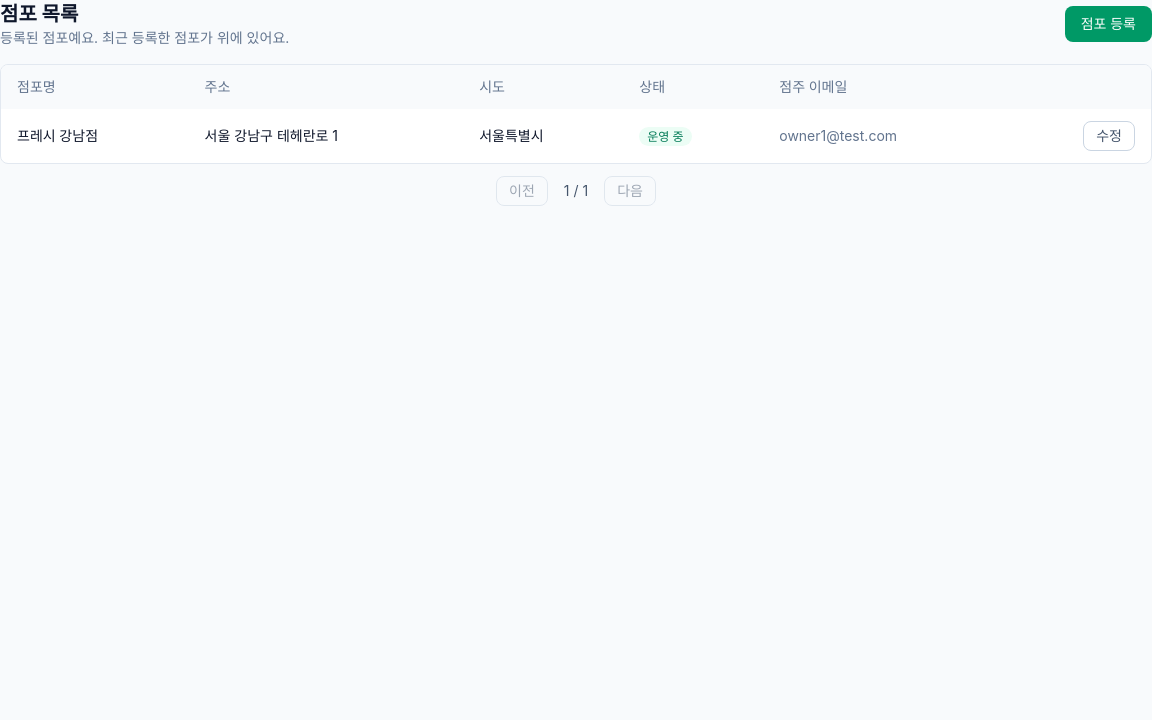
it: 관리자 점포 수정 모달 (A-02) › [취소]하면 닫히고 바꾼 값은 버린다
Click the button with aria-label "프레시 강남점 수정" at (1109, 136), box left=1083, top=121, right=1135, bottom=151
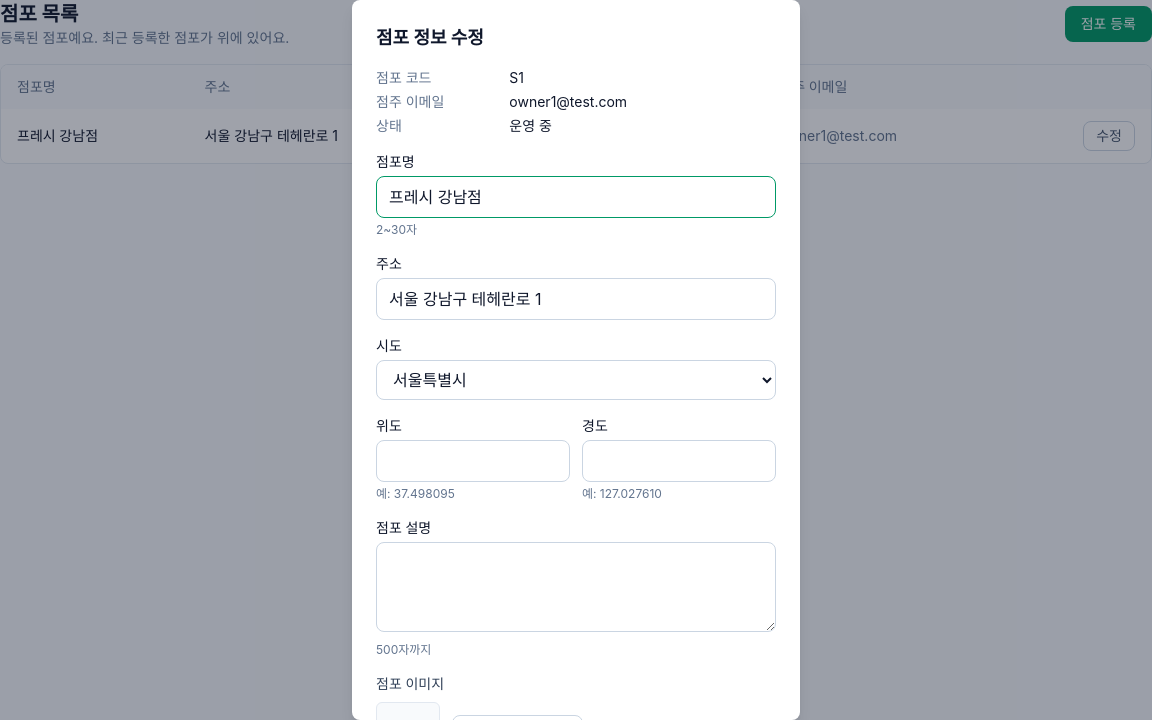
Replace the text in the field labelled "점포명" with "바뀐 이름" at (576, 197), box left=376, top=176, right=776, bottom=218
(page scrolled)
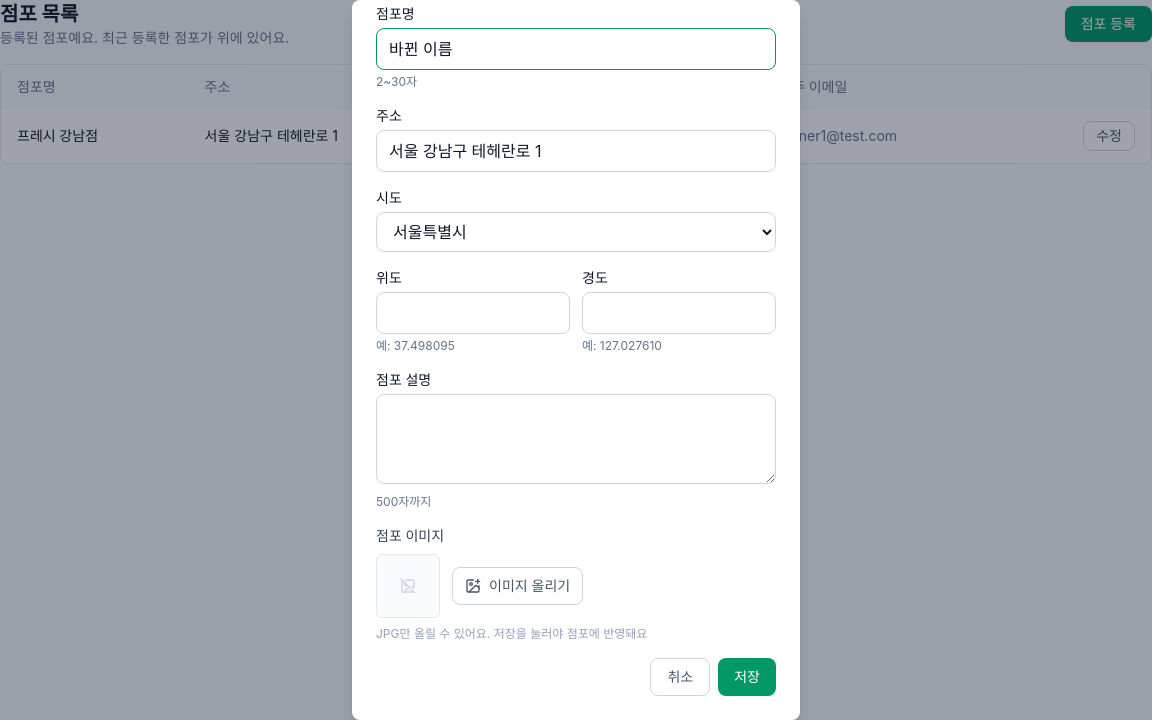
Click the button "취소" at (680, 677), box left=650, top=658, right=710, bottom=696
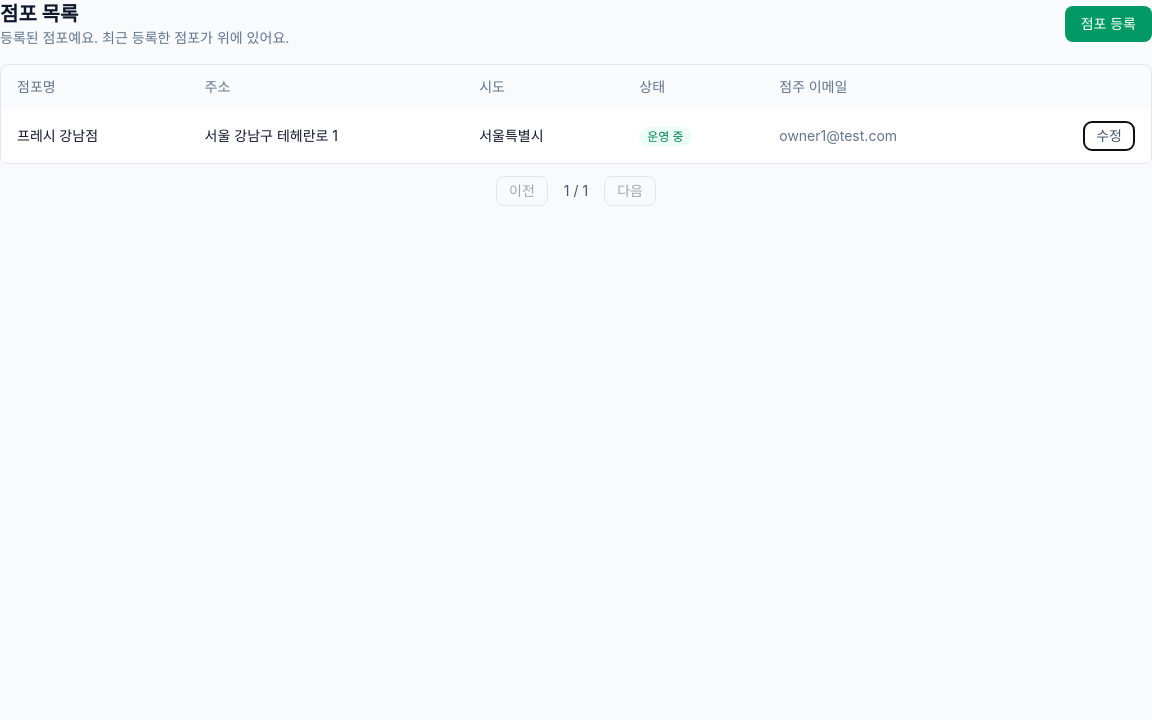
Check: the dialog is gone
Click the button with aria-label "프레시 강남점 수정" at (1109, 136), box left=1083, top=121, right=1135, bottom=151
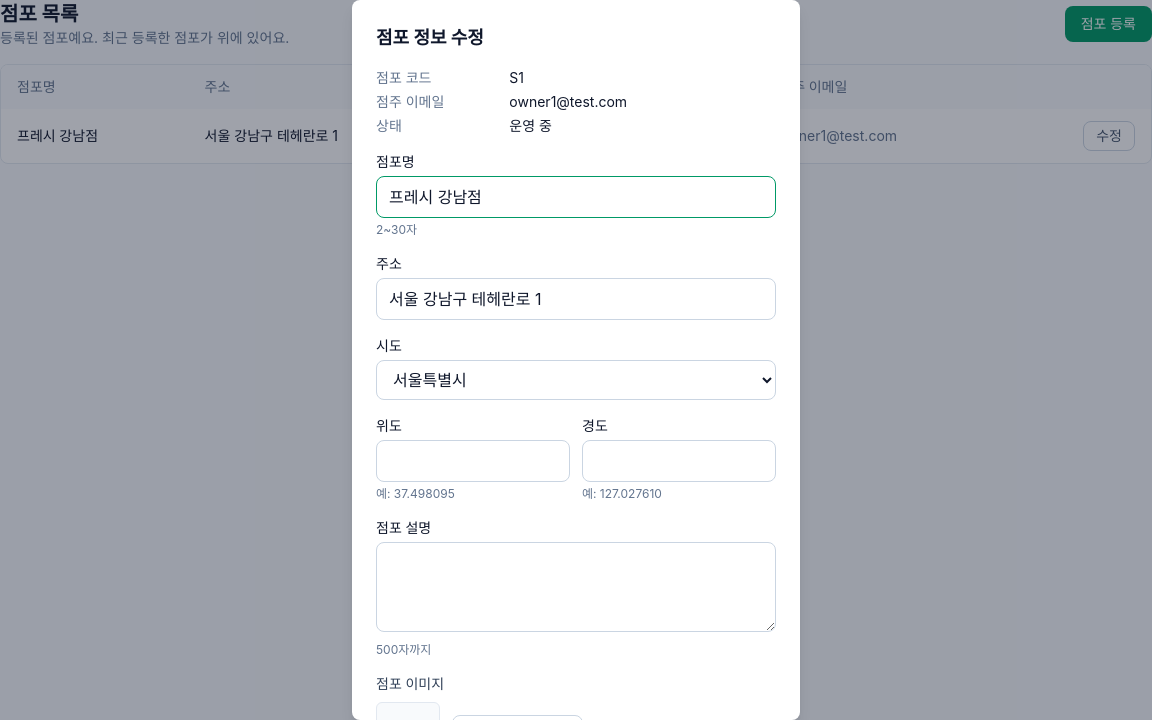
Check: the field labelled "점포명" holds "프레시 강남점", box left=376, top=176, right=776, bottom=218
